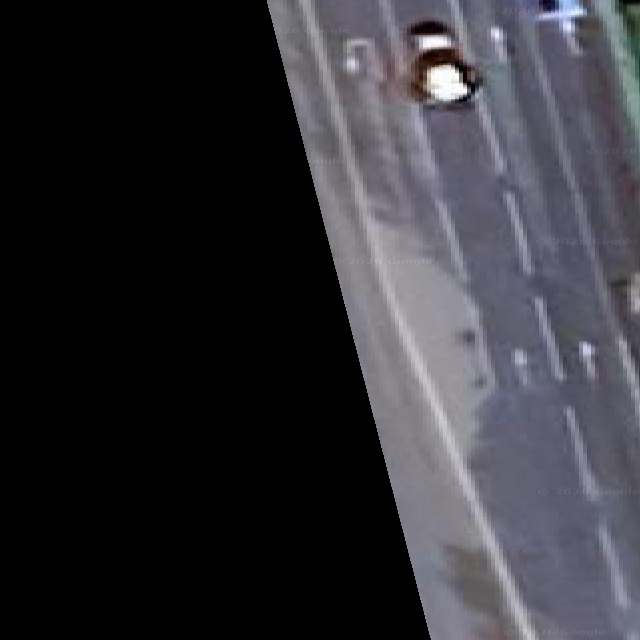car: (403, 21, 480, 105)
